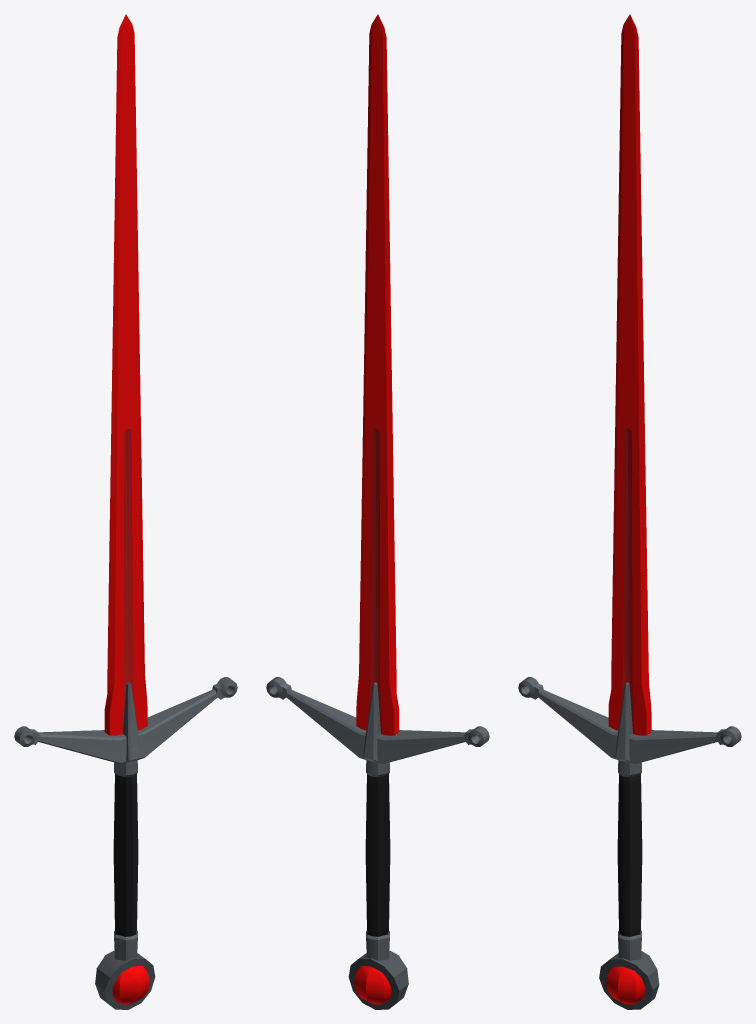
Rendered from SM_Sword02_Claymore_5FantasyRed.fbx.
The picture shows the model from 3 angles, left to right: view 1: azimuth 30°, elevation 25°; view 2: azimuth 150°, elevation 25°; view 3: azimuth 330°, elevation 25°; orthographic projection.
Parts seen in each view (by area): view 1: Cube.322, Cube.323, Cylinder.399, Cylinder.400, Sphere.122, Cylinder.398; view 2: Cube.322, Cube.323, Cylinder.399, Cylinder.400, Sphere.122, Cylinder.398; view 3: Cube.322, Cube.323, Cylinder.399, Cylinder.400, Sphere.122, Cylinder.398.
Boxes of the visible parts, x1,y1,x2,y2 form: Cube.322: [104, 14, 147, 735]; Cube.323: [38, 682, 217, 763]; Cylinder.399: [113, 760, 138, 960]; Cylinder.400: [95, 950, 155, 1009]; Sphere.122: [112, 965, 149, 1004]; Cylinder.398: [14, 677, 237, 746]; Cube.322: [356, 14, 399, 735]; Cube.323: [286, 682, 465, 763]; Cylinder.399: [365, 760, 390, 960]; Cylinder.400: [348, 950, 408, 1009]; Sphere.122: [354, 965, 391, 1004]; Cylinder.398: [266, 677, 489, 746]; Cube.322: [608, 14, 651, 735]; Cube.323: [538, 682, 717, 763]; Cylinder.399: [617, 760, 642, 960]; Cylinder.400: [599, 951, 659, 1009]; Sphere.122: [606, 966, 645, 1004]; Cylinder.398: [518, 677, 741, 746].
Size of the model in its own units: 0.2982 by 1.3 by 0.0587.
